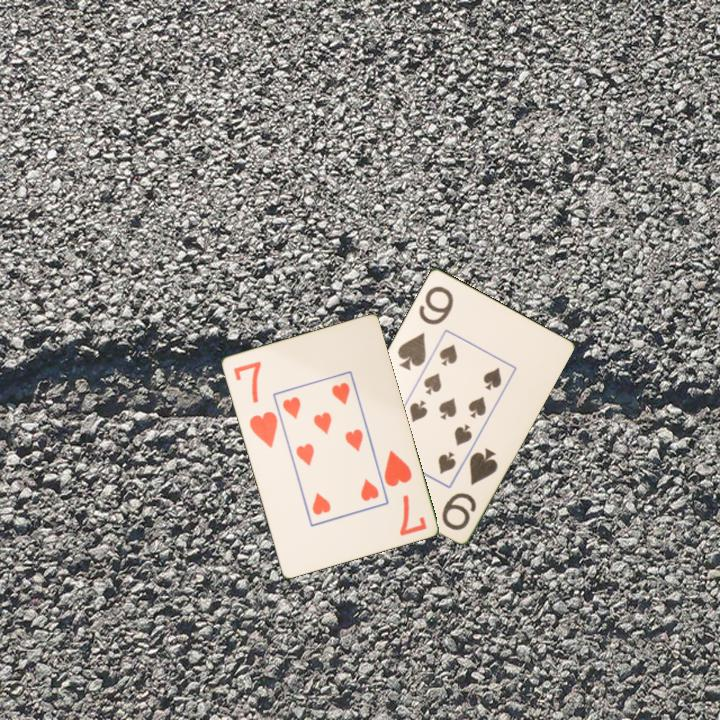7h: (230, 357, 280, 451), (380, 447, 429, 538)
9s: (394, 282, 456, 373), (438, 444, 501, 533)
